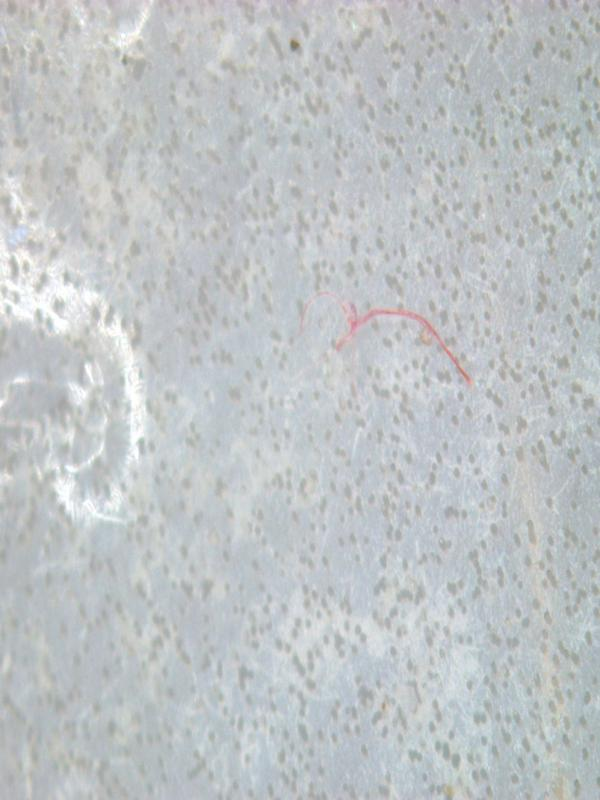microplastic: (1, 1, 598, 798), (296, 287, 472, 400)
